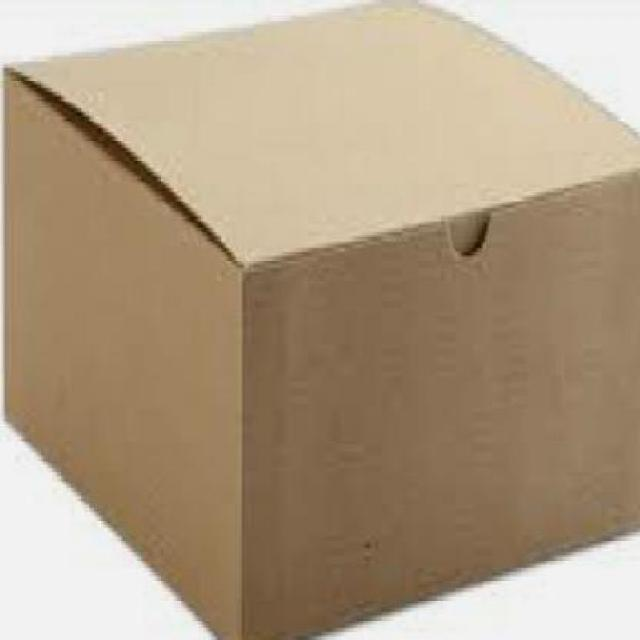-: (0, 2, 640, 640)
